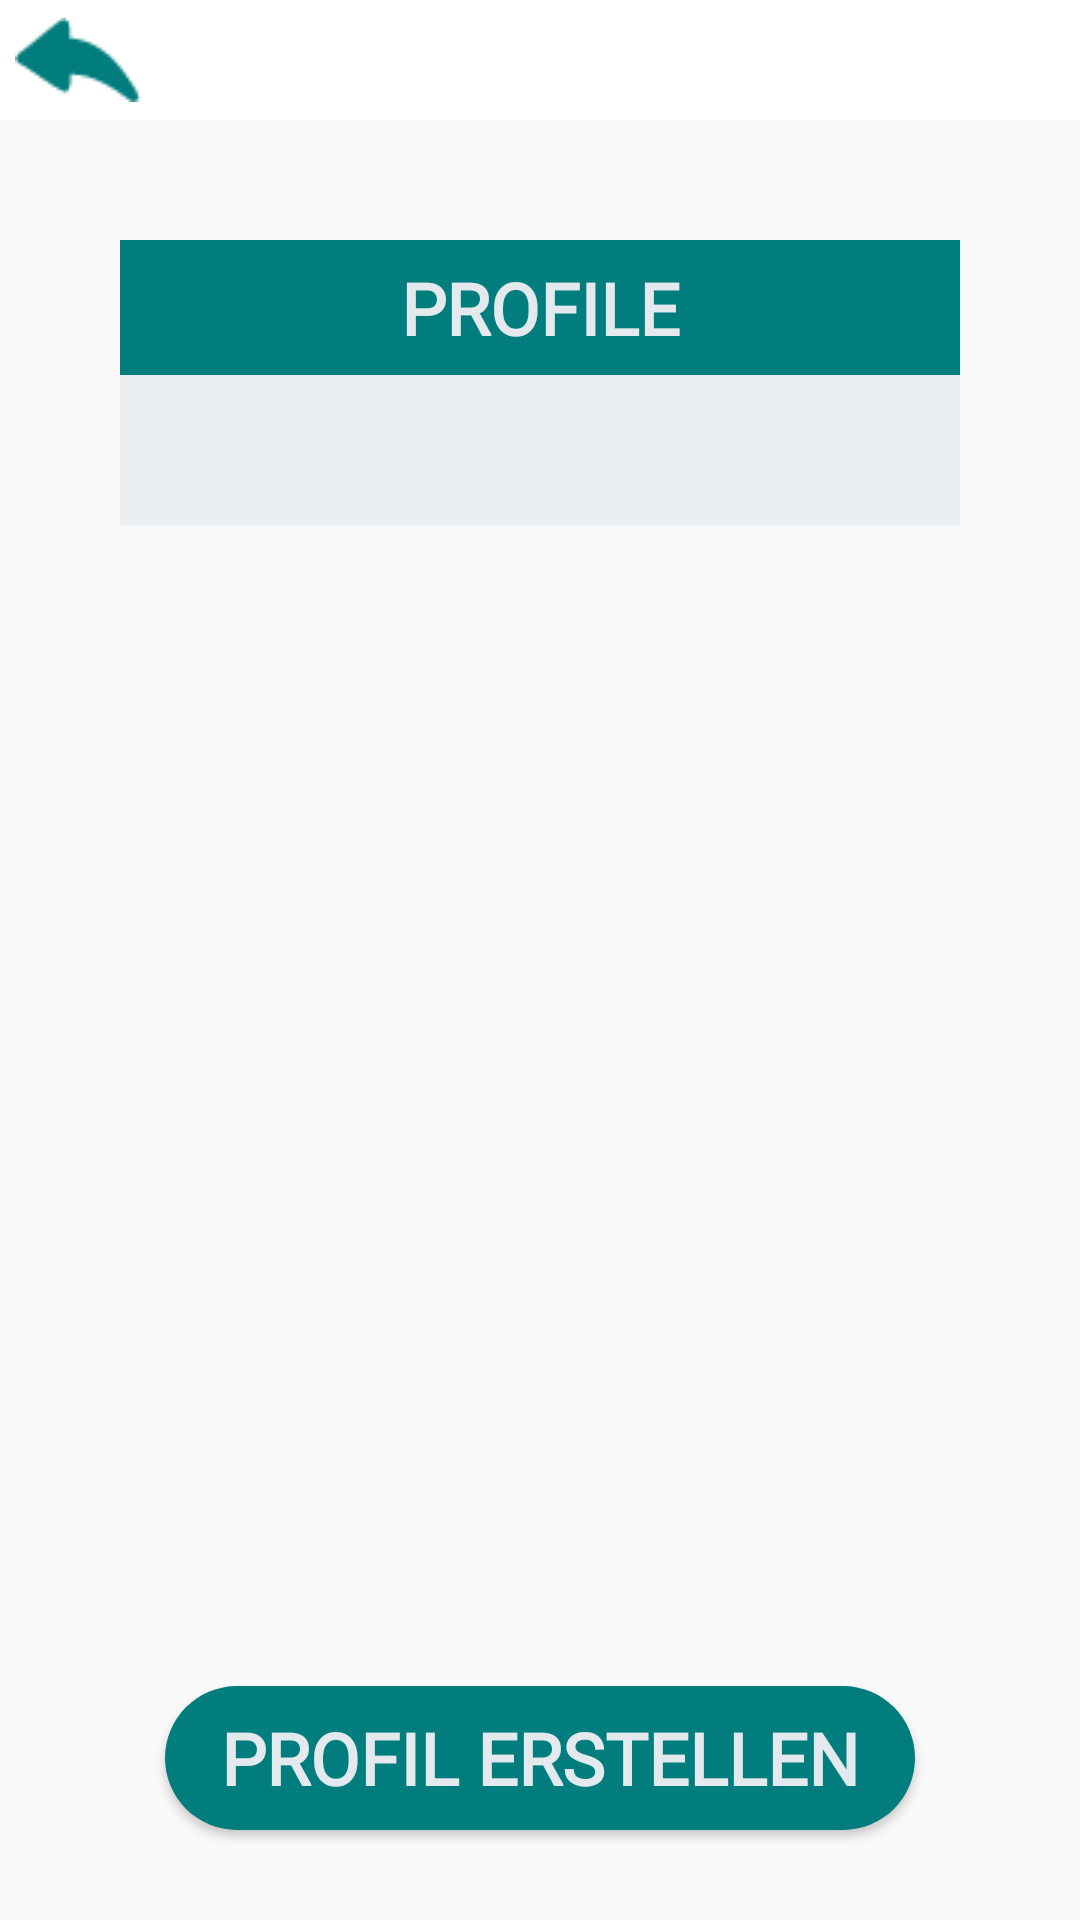

Icons on this 1080w x 1920h Android screen, each with its box as box(x1, y1, x2, y2):
back: box(15, 18, 141, 102)
